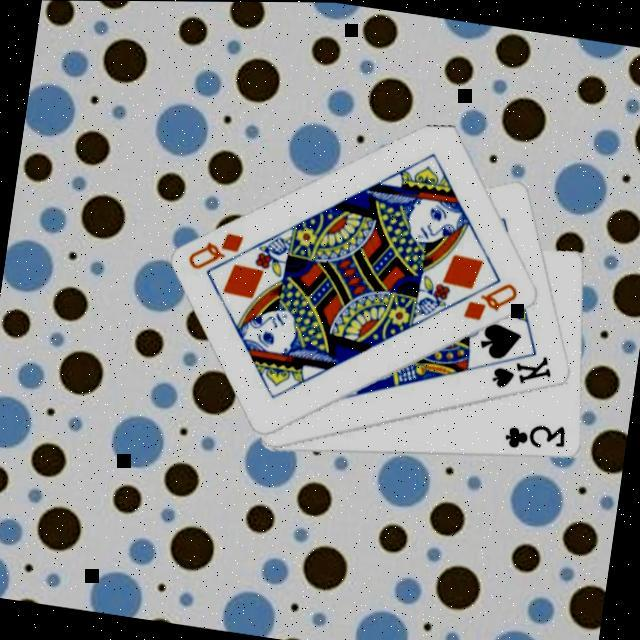3C: (502, 416, 572, 460)
KS: (489, 346, 559, 398)
QD: (460, 274, 524, 330), (186, 224, 250, 280)
